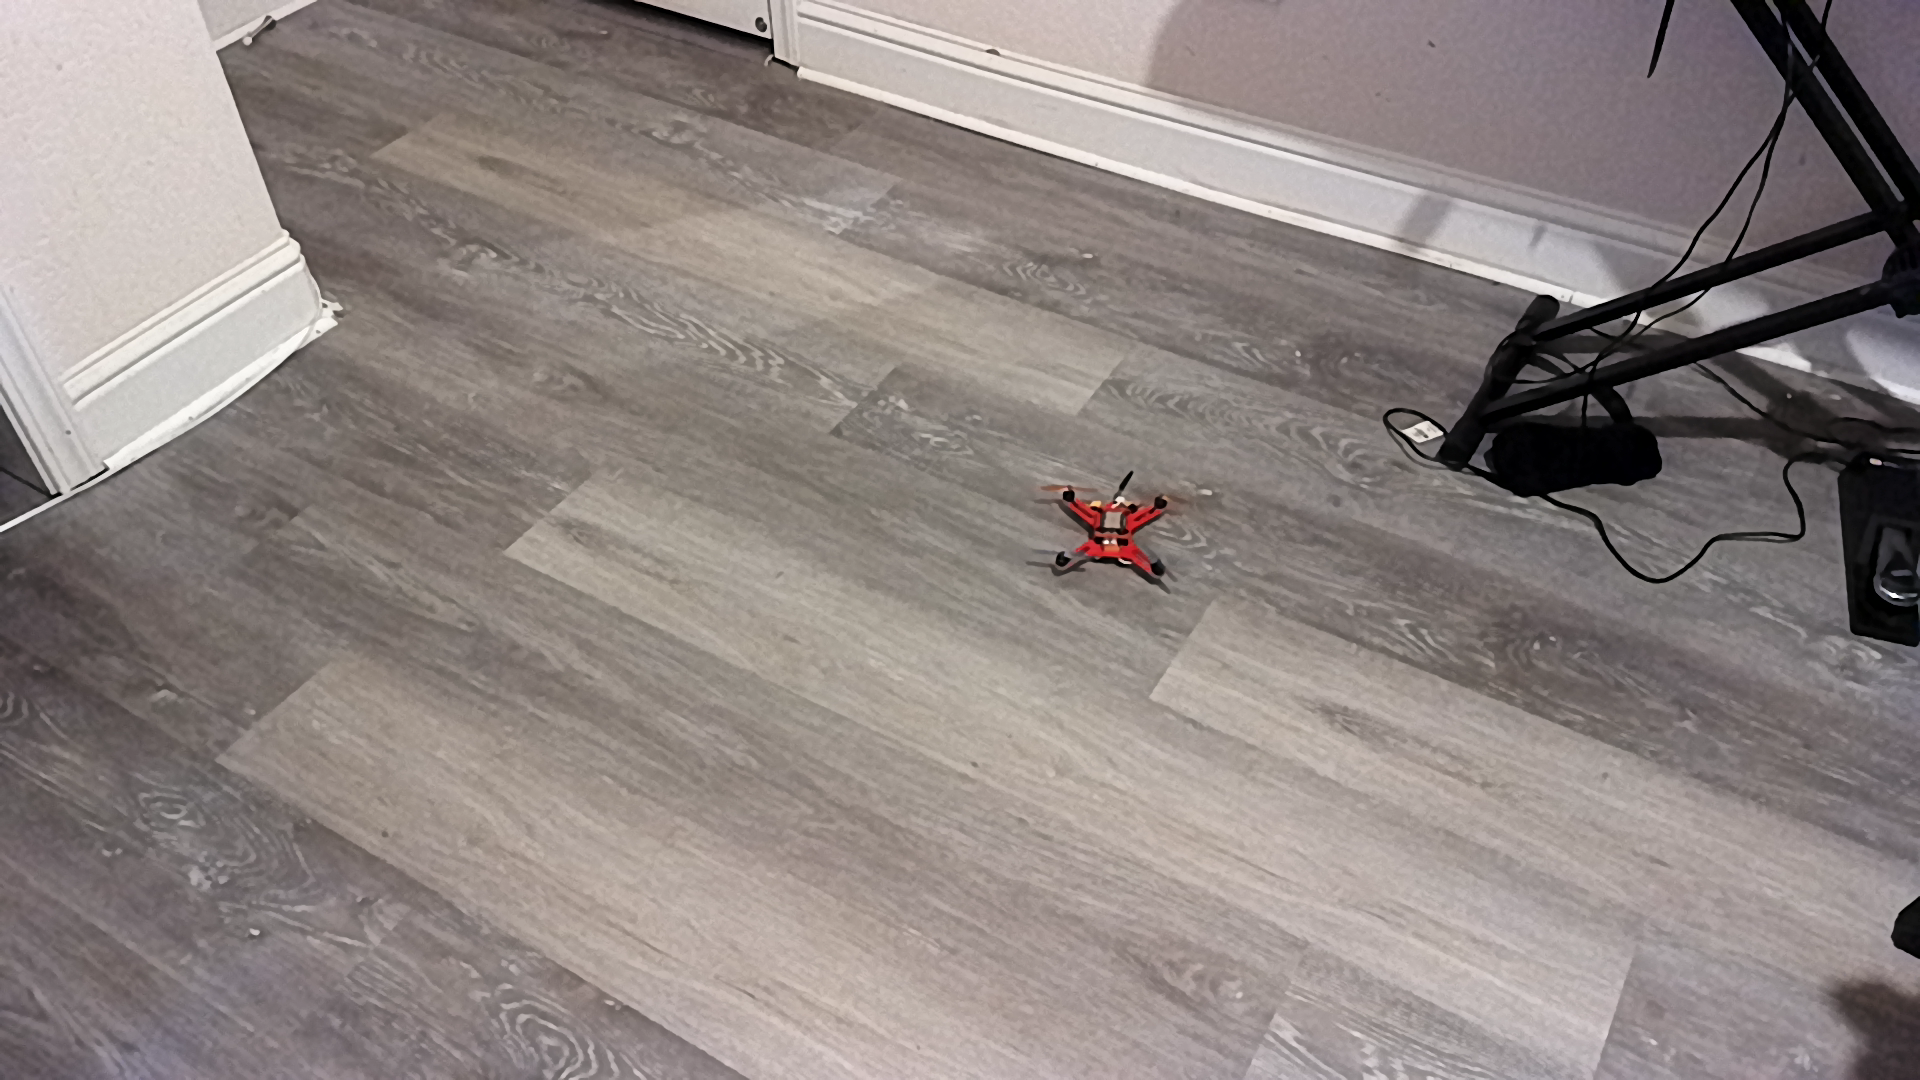drone: (1033, 467, 1212, 607)
